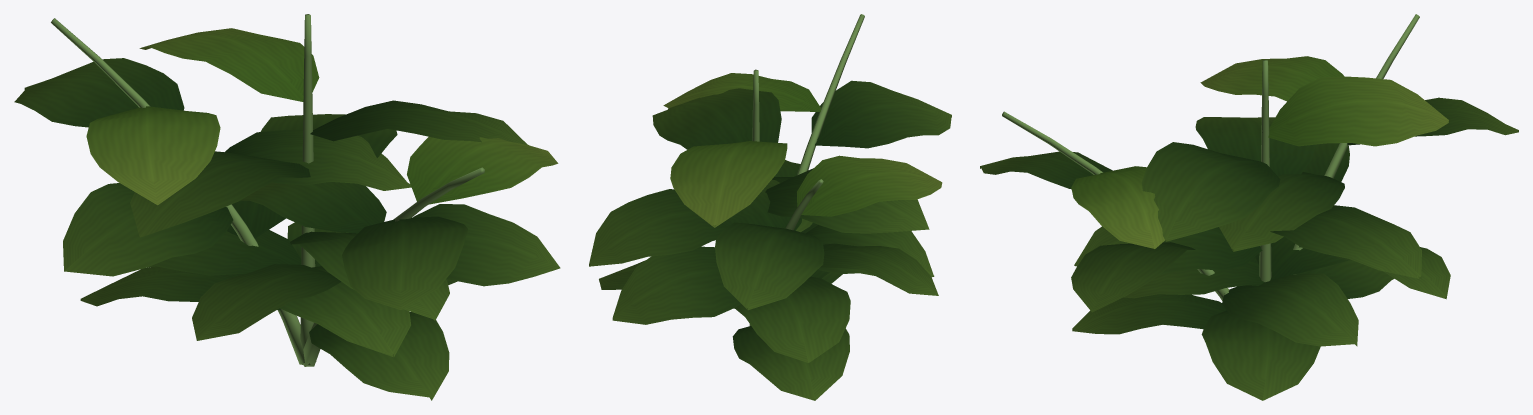
The model's file is daisy-06-lod.glb.
3 views of the same model, side by side, from view 1: azimuth 30°, elevation 25°; view 2: azimuth 150°, elevation 25°; view 3: azimuth 270°, elevation 25° (orthographic). The views are drawn at different scales.
Parts seen in each view (by area): view 1: daisy_stage_06_leaf_veins.011, daisy_stage_06_young_leaf.011, daisy_stage_06_stem_fibres.011; view 2: daisy_stage_06_leaf_veins.011, daisy_stage_06_young_leaf.011, daisy_stage_06_stem_fibres.011; view 3: daisy_stage_06_leaf_veins.011, daisy_stage_06_young_leaf.011, daisy_stage_06_stem_fibres.011.
Boxes of the visible parts, x1,y1,x2,y2 form: daisy_stage_06_leaf_veins.011: (14,58,560,400); daisy_stage_06_young_leaf.011: (86,28,558,205); daisy_stage_06_stem_fibres.011: (51,14,484,366); daisy_stage_06_leaf_veins.011: (589,80,951,400); daisy_stage_06_young_leaf.011: (663,73,942,227); daisy_stage_06_stem_fibres.011: (749,14,864,325); daisy_stage_06_leaf_veins.011: (980,97,1518,400); daisy_stage_06_young_leaf.011: (1071,56,1448,248); daisy_stage_06_stem_fibres.011: (1002,14,1419,300).
Size of the model in its own units: 0.2253 by 0.1773 by 0.2866.
Materials: 3 (2 with a texture image).
